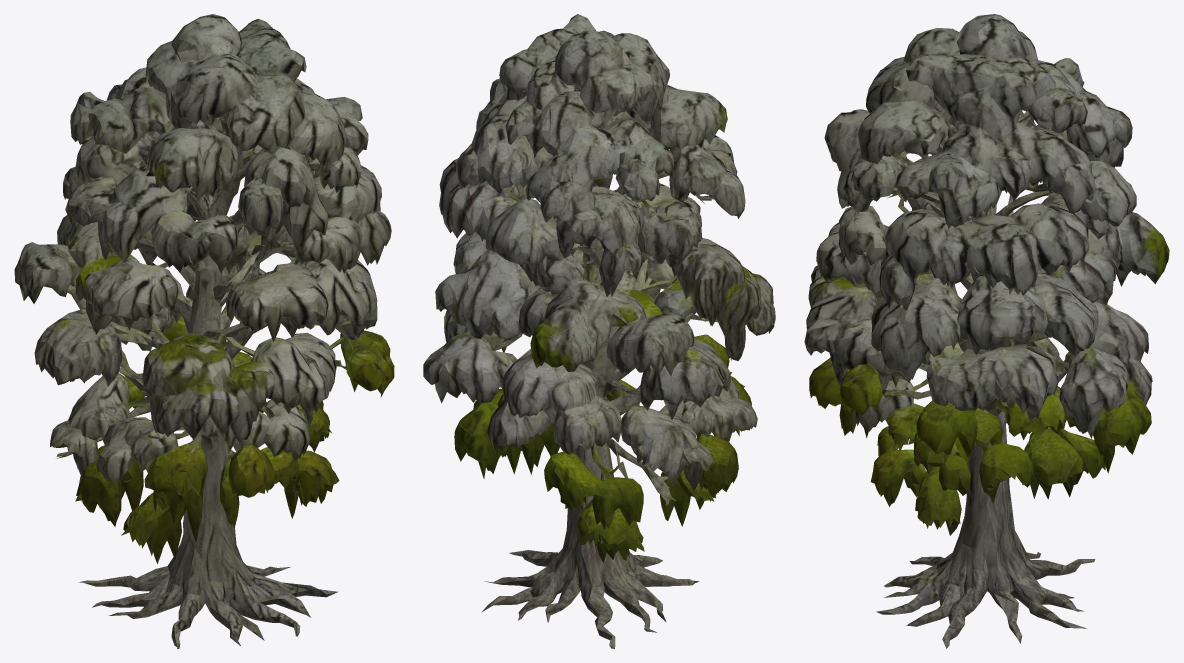
Rendered from golden-larch.glb.
The picture shows the model from 3 angles, left to right: view 1: azimuth 30°, elevation 25°; view 2: azimuth 150°, elevation 25°; view 3: azimuth 270°, elevation 25°; orthographic projection. The views are drawn at different scales.
Bounding box in the file's own units: 1.04 × 1.89 × 1.08.
1 material, 1 textured.
